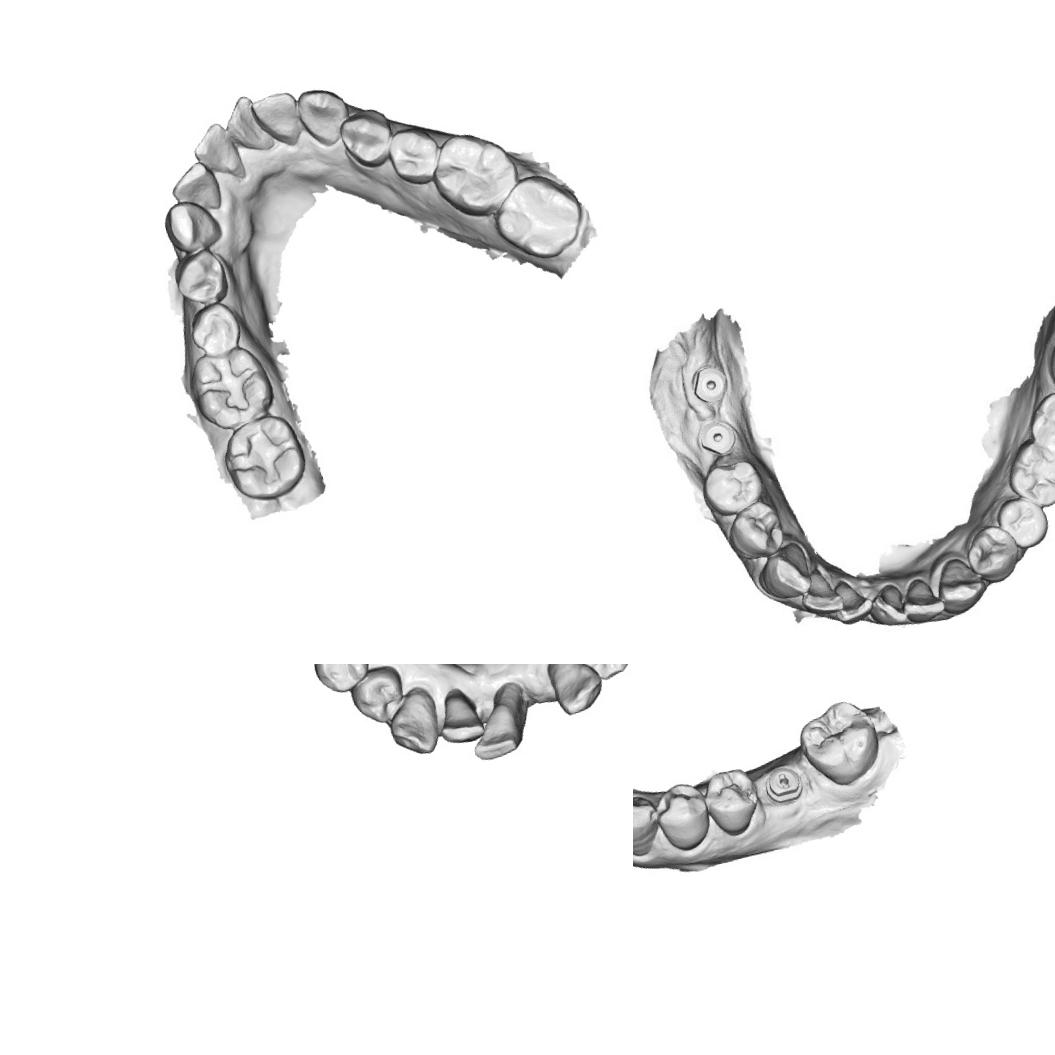canine: (380, 682, 447, 762), (159, 192, 230, 257), (294, 82, 356, 153), (540, 664, 609, 721), (930, 556, 990, 612), (760, 548, 816, 602), (633, 792, 668, 864)
implant: (695, 416, 737, 458), (689, 360, 728, 401)
implant_minus: (759, 759, 806, 807)
incisor: (462, 698, 526, 766), (187, 117, 249, 186), (165, 156, 230, 220), (218, 88, 276, 159), (249, 86, 308, 155), (432, 681, 488, 748), (899, 578, 941, 622), (801, 572, 844, 614), (868, 584, 906, 628), (832, 584, 868, 621)
molar: (424, 121, 530, 228), (486, 164, 594, 268), (212, 408, 314, 511), (792, 692, 888, 795), (180, 340, 280, 438), (1007, 438, 1055, 503), (1025, 389, 1055, 460)
premolar: (650, 777, 717, 856), (700, 762, 767, 840), (335, 102, 402, 175), (380, 120, 446, 191), (170, 242, 236, 312), (182, 296, 250, 362), (344, 664, 410, 732), (700, 454, 764, 516), (966, 522, 1024, 581), (726, 501, 784, 558), (999, 496, 1050, 548), (307, 664, 378, 700), (571, 664, 633, 686)
